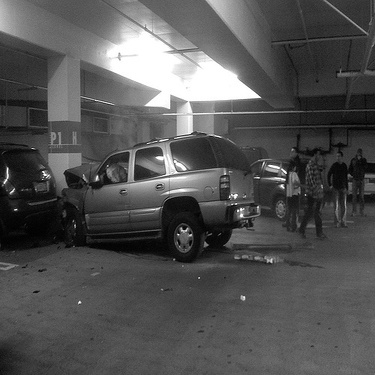car: (48, 112, 266, 275), (218, 146, 318, 229), (1, 132, 69, 243), (319, 156, 373, 209)
